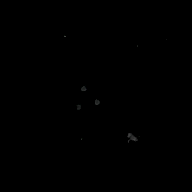v: (70, 82, 99, 110)
